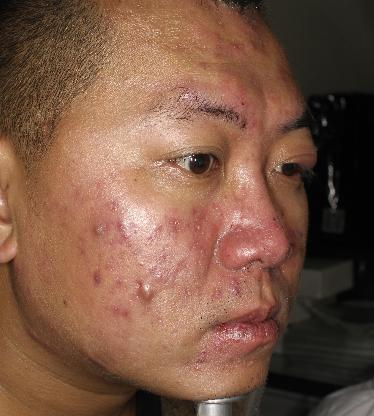Blackheads: (235, 94, 253, 112)
Nodules: (128, 280, 162, 309)
Papules: (90, 217, 110, 239), (227, 281, 244, 301), (114, 216, 129, 234)
pustules: (190, 221, 206, 235)
